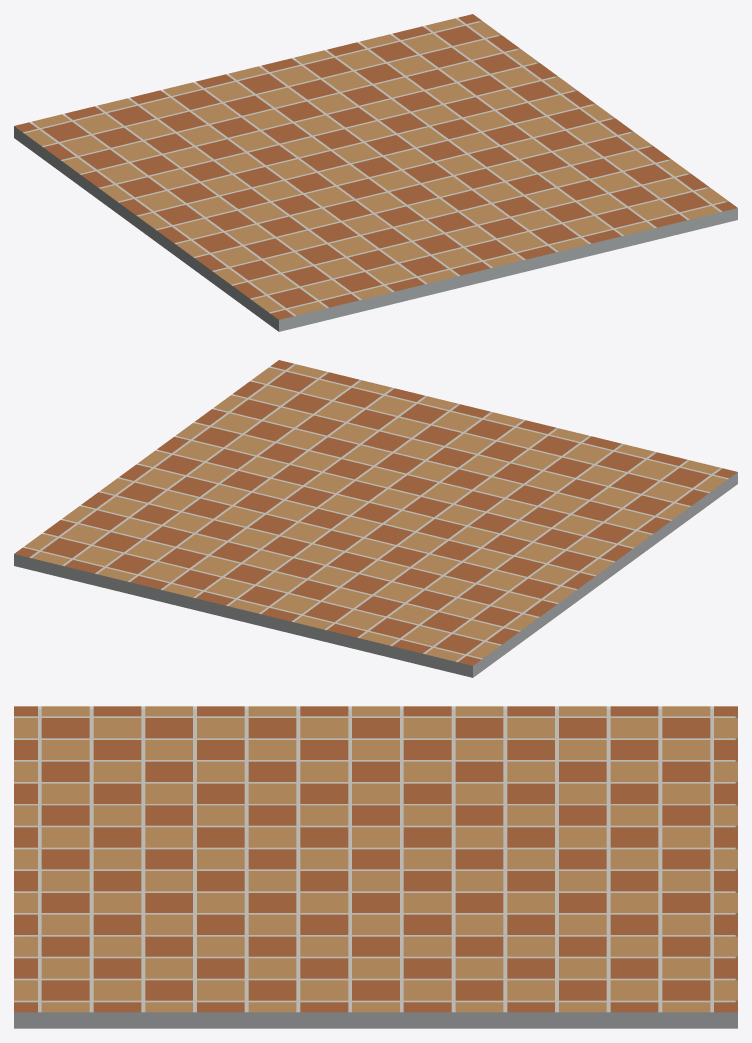
Rendered from floor_tile.glb.
3 views of the same model, one above another, from view 1: azimuth 30°, elevation 25°; view 2: azimuth 150°, elevation 25°; view 3: azimuth 270°, elevation 25° (orthographic). The views are drawn at different scales.
Parts seen in each view (by area): view 1: encaustic-slab; view 2: encaustic-slab; view 3: encaustic-slab.
Part boxes in pixels (box(x1,y1,x2,y2)): encaustic-slab: box(14, 14, 737, 331); encaustic-slab: box(14, 360, 737, 677); encaustic-slab: box(14, 706, 737, 1028).
Size of the model in its own units: 2 by 0.05 by 2.
